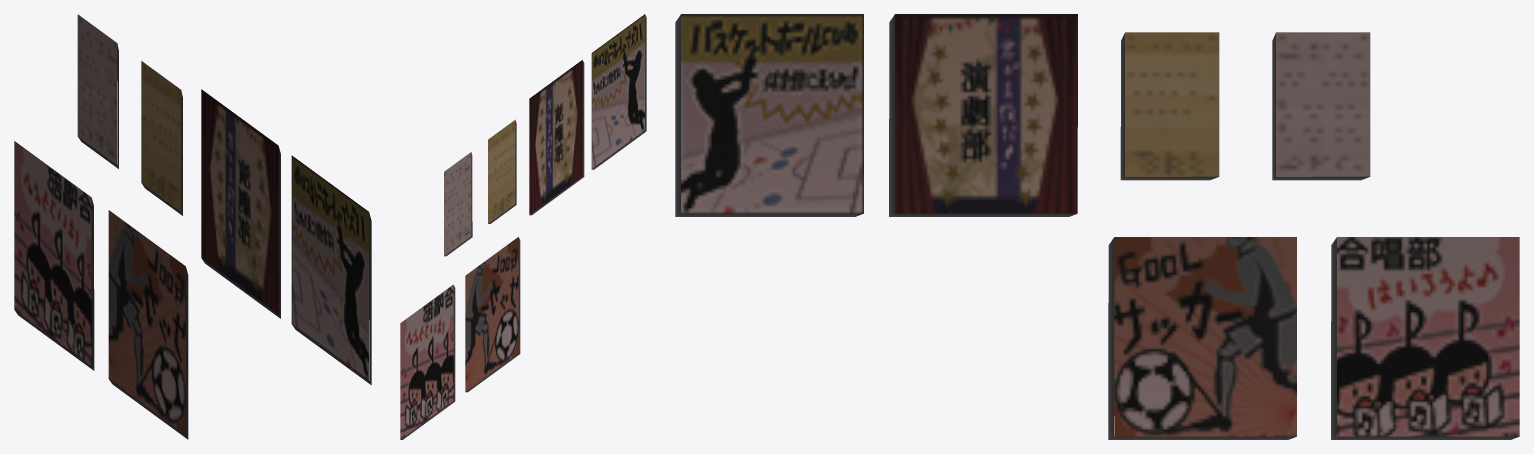
File: HW_infoDEve.FBX
The picture shows the model from 3 angles, left to right: view 1: azimuth 30°, elevation 25°; view 2: azimuth 150°, elevation 25°; view 3: azimuth 270°, elevation 25°; orthographic projection. The views are drawn at different scales.
Parts seen in each view (by area): view 1: HW_infoD_eve00; view 2: HW_infoD_eve00; view 3: HW_infoD_eve00.
Boxes of the visible parts, <box> form: HW_infoD_eve00: <box>14,14,371,439</box>; HW_infoD_eve00: <box>400,14,646,439</box>; HW_infoD_eve00: <box>675,14,1519,439</box>.
Bounding box in the file's own units: 0.00208 × 120 × 215.
